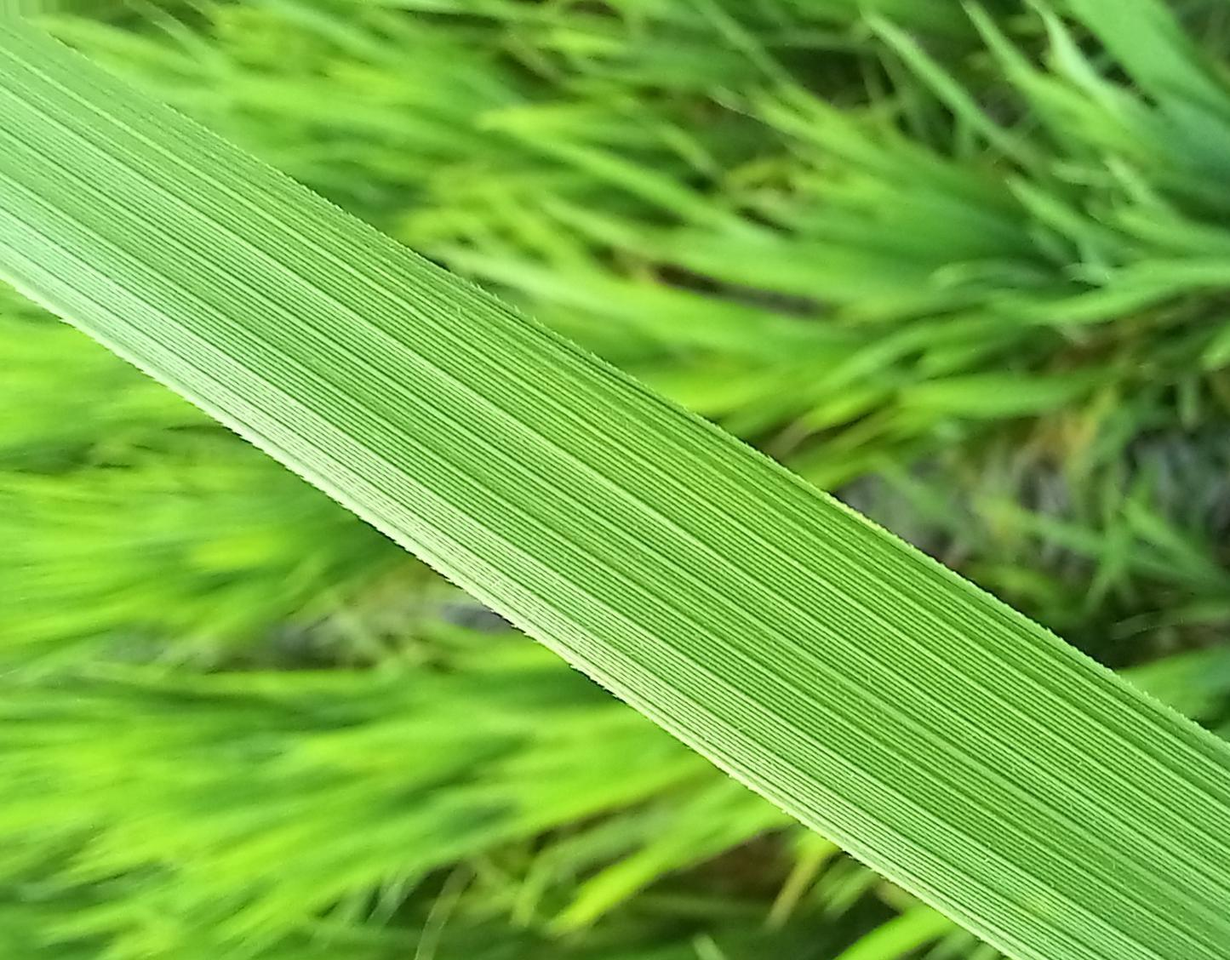Healthy: (2, 8, 1230, 959)
